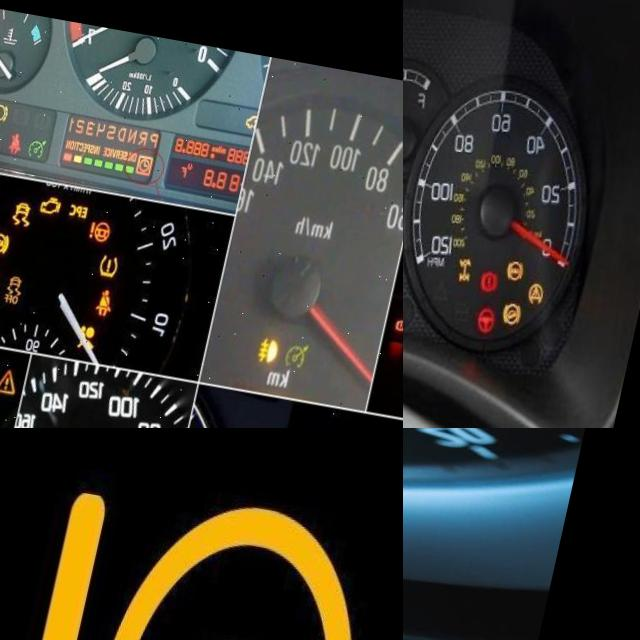Electronic Power Steering: (12, 467, 387, 640)
Electronic Power Steering Warning: (97, 213, 120, 236)
Seat Belt: (107, 282, 126, 310), (13, 128, 30, 153)
